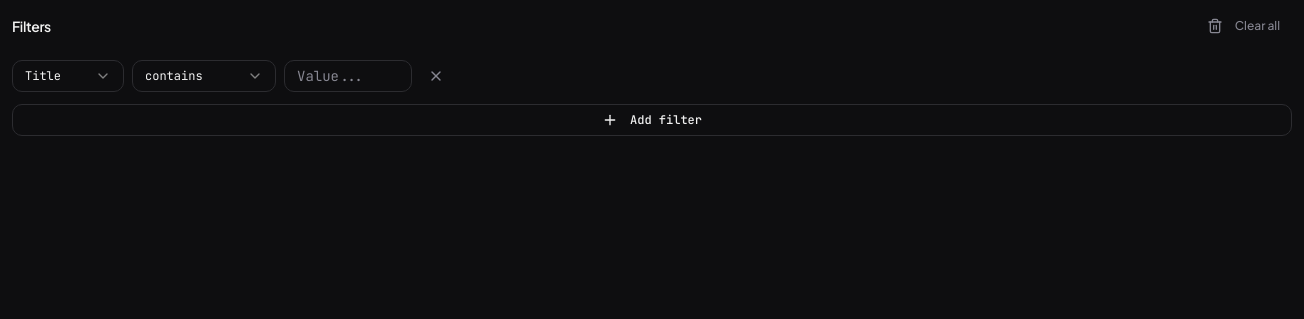
Scenario: FilterRuleEditor — filterableFields › restricts the field picker to the given subset
The image size is (1304, 319).
Click the dropdown labelled "Title" at (68, 76), box [12,60,124,92]
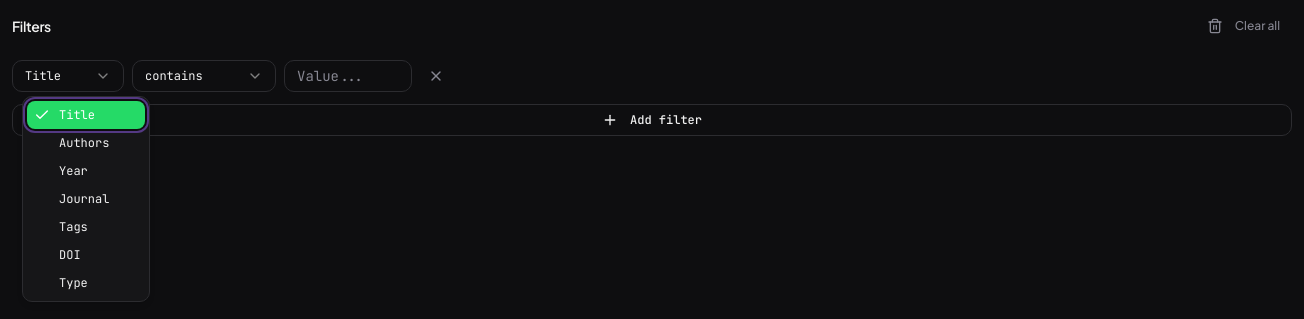
Result: the option "Title" is shown at [27,101,145,129]
Result: the option "Authors" is shown at [59,135,109,151]
